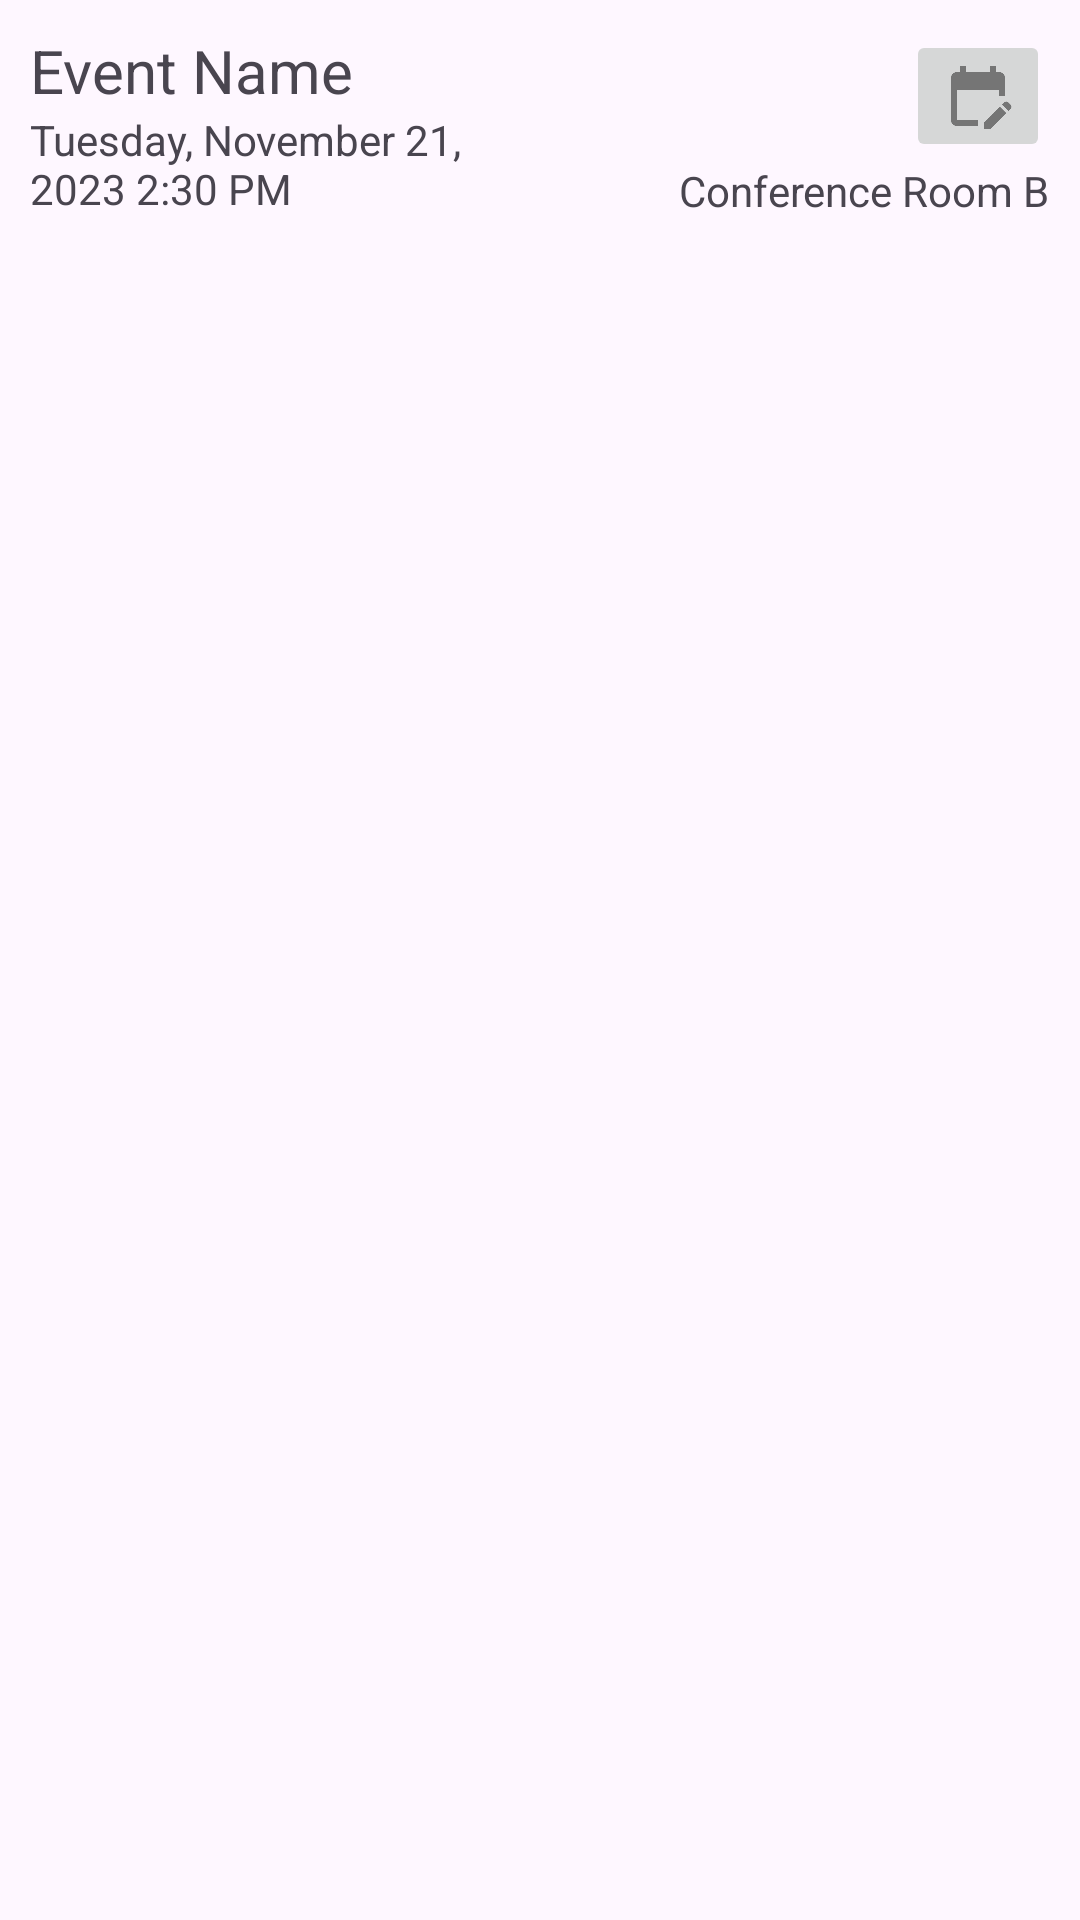

Icon bounding boxes for this 1080 x 1920 phone screenshot, format (x1, y1, x2, y2):
calendar add: (918, 48, 1038, 144)
